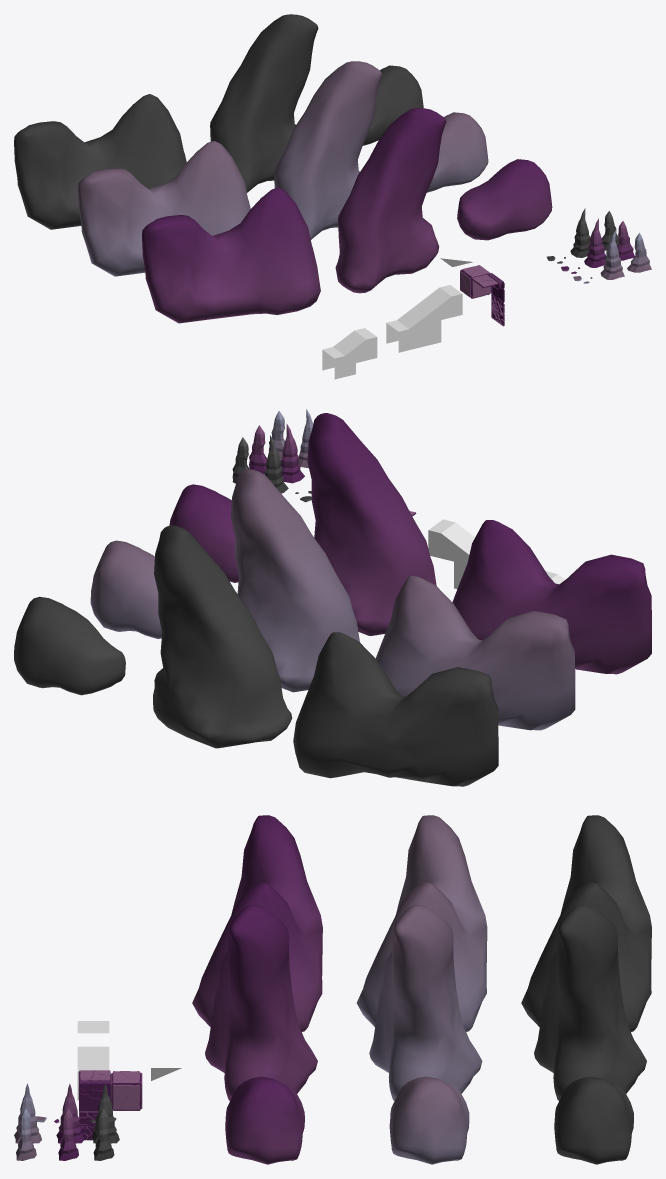
The model's file is ModulosRoca01.fbx.
3 views of the same model, one above another, from view 1: azimuth 30°, elevation 25°; view 2: azimuth 150°, elevation 25°; view 3: azimuth 270°, elevation 25° (orthographic). The views are drawn at different scales.
Parts seen in each view (by area): view 1: PolySphere1, PolySphere1_1, PolySphere005, PolySphere003, PolySphere1_003, PolySphere1_002, PolySphere, PolySphere002, PolySphere004, Object002, Object003, Plane002 (+7 smaller); view 2: PolySphere005, PolySphere1_003, PolySphere003, PolySphere1, PolySphere1_1, PolySphere1_002, PolySphere004, PolySphere002, PolySphere, Plane001, Line098, Line040 (+1 smaller); view 3: PolySphere1_003, PolySphere1_1, PolySphere1_002, PolySphere005, PolySphere003, PolySphere1, PolySphere, PolySphere002, PolySphere004, Line112, Line105, Line041 (+5 smaller).
Part boxes in pixels (<box>): PolySphere1: <box>142,187,320,323</box>; PolySphere1_1: <box>335,108,446,293</box>; PolySphere005: <box>14,94,186,229</box>; PolySphere003: <box>78,141,250,276</box>; PolySphere1_003: <box>210,14,318,192</box>; PolySphere1_002: <box>274,61,382,239</box>; PolySphere: <box>457,159,552,240</box>; PolySphere002: <box>426,112,488,192</box>; PolySphere004: <box>363,65,423,145</box>; Object002: <box>386,312,419,352</box>; Object003: <box>322,339,355,379</box>; Plane002: <box>344,328,377,362</box>; PolySphere005: <box>293,632,498,786</box>; PolySphere1_003: <box>153,525,292,748</box>; PolySphere003: <box>375,576,575,730</box>; PolySphere1: <box>452,520,651,674</box>; PolySphere1_1: <box>307,413,436,635</box>; PolySphere1_002: <box>230,469,359,692</box>; PolySphere004: <box>14,596,125,695</box>; PolySphere002: <box>90,540,161,638</box>; PolySphere: <box>169,484,238,582</box>; Plane001: <box>428,519,468,561</box>; Line098: <box>281,423,304,483</box>; Line040: <box>264,435,288,493</box>; PolySphere1_003: <box>534,905,646,1100</box>; PolySphere1_1: <box>205,905,317,1100</box>; PolySphere1_002: <box>369,905,482,1100</box>; PolySphere005: <box>521,815,651,1031</box>; PolySphere003: <box>356,815,487,1032</box>; PolySphere1: <box>192,815,322,1031</box>; PolySphere: <box>225,1076,304,1164</box>; PolySphere002: <box>389,1076,469,1164</box>; PolySphere004: <box>554,1076,633,1164</box>; Line112: <box>110,1071,142,1110</box>; Line105: <box>79,1070,110,1111</box>; Line041: <box>93,1108,114,1160</box>.
Size of the model in its own units: 761 by 325 by 793.
Materials: 2 (1 with a texture image).
